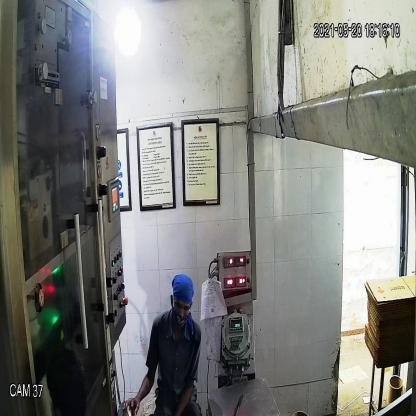goggles: (170, 295, 193, 320)
